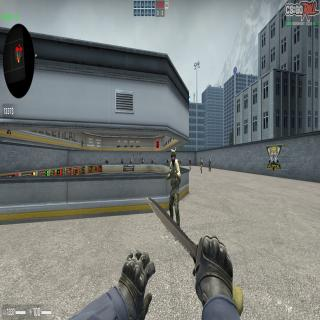CT-Body: (166, 150, 181, 230), (199, 157, 203, 174), (208, 158, 211, 172), (120, 158, 124, 164), (129, 157, 132, 164), (151, 158, 154, 164), (141, 158, 143, 164), (166, 158, 168, 164)
CT-Head: (170, 150, 176, 164), (200, 158, 202, 160), (121, 157, 122, 160), (130, 158, 131, 160), (167, 158, 168, 160), (209, 158, 210, 160), (142, 157, 142, 160), (152, 157, 152, 160)
T-Body: (178, 158, 182, 167), (189, 158, 191, 171), (105, 158, 108, 164)
T-Head: (106, 158, 107, 161), (180, 158, 180, 161), (190, 158, 190, 161)
